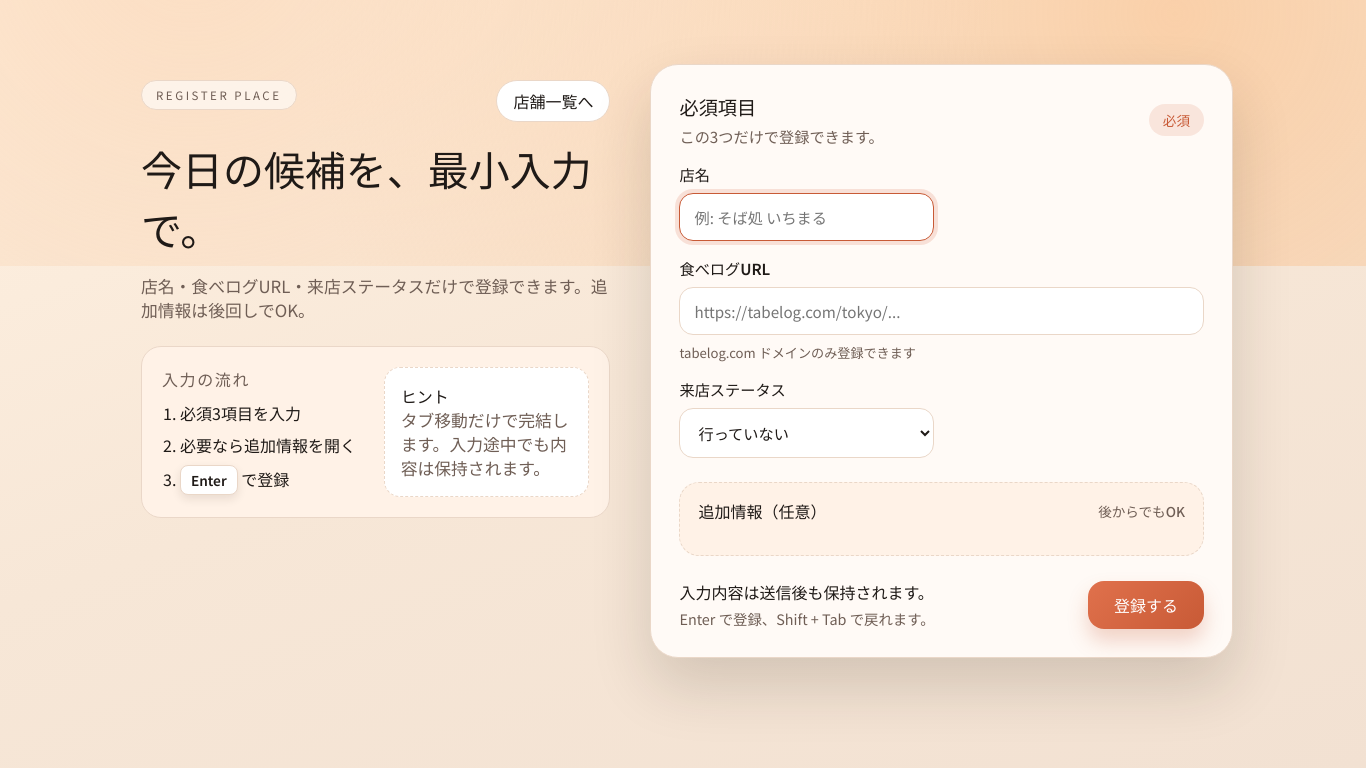
Test: App › tabelog.com 以外のURLを拒否して理由を表示する
The width and height of the screenshot is (1366, 768).
Type "テスト店" into the field labelled "店名".
click(807, 217); type("テスト店")  # box x1=680 y1=193 x2=934 y2=241
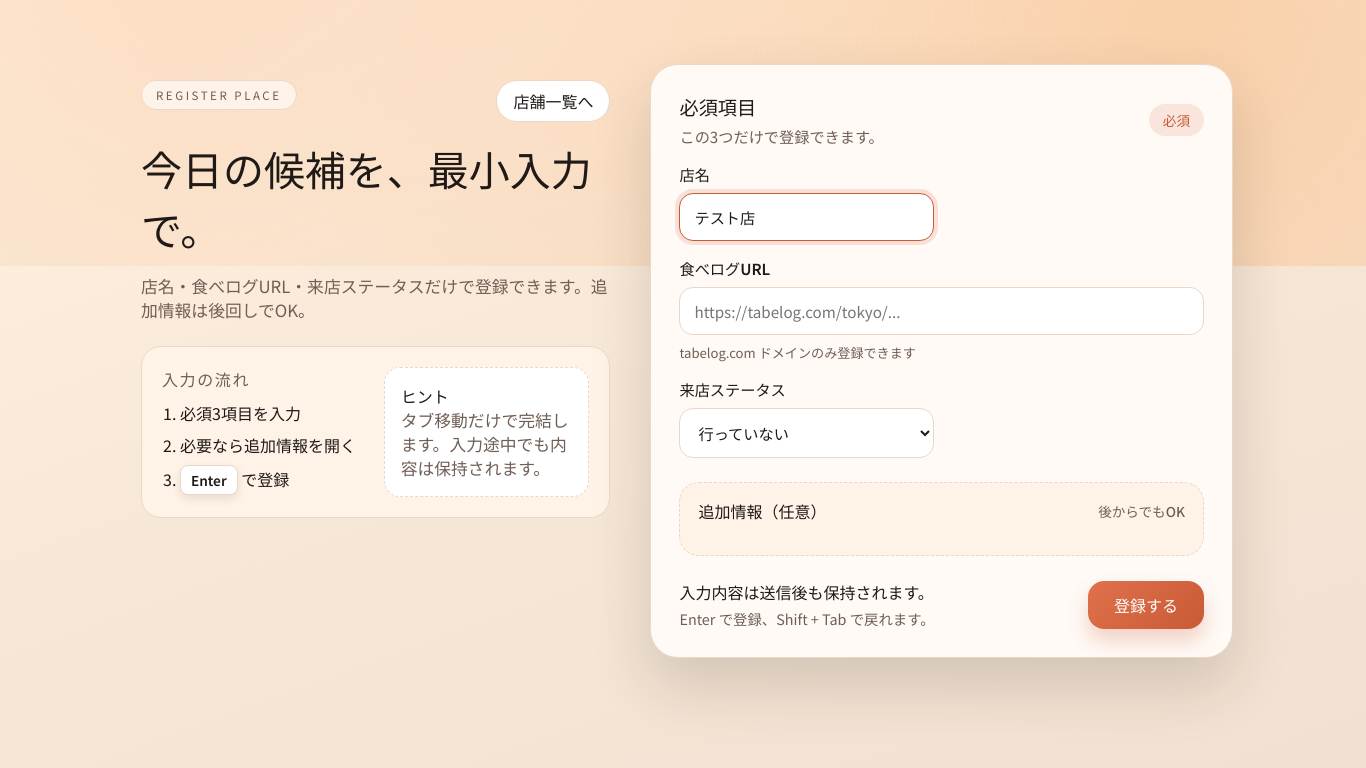
Type "https://example.com" into the field labelled "食べログURL tabelog.com ドメインのみ登録できます".
click(942, 311); type("https://example.com")  # box x1=680 y1=287 x2=1204 y2=335
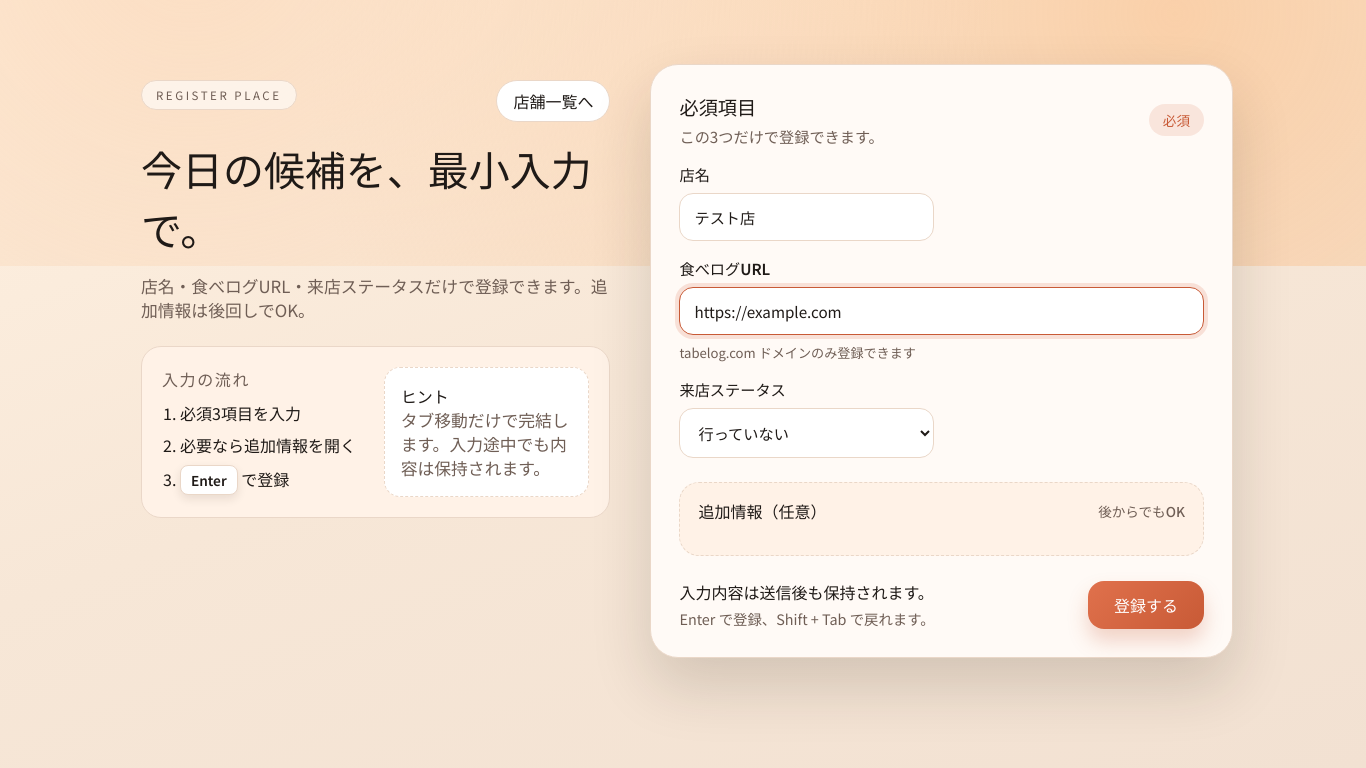
Click the button "登録する".
click(1146, 604)  # box x1=1088 y1=580 x2=1204 y2=628
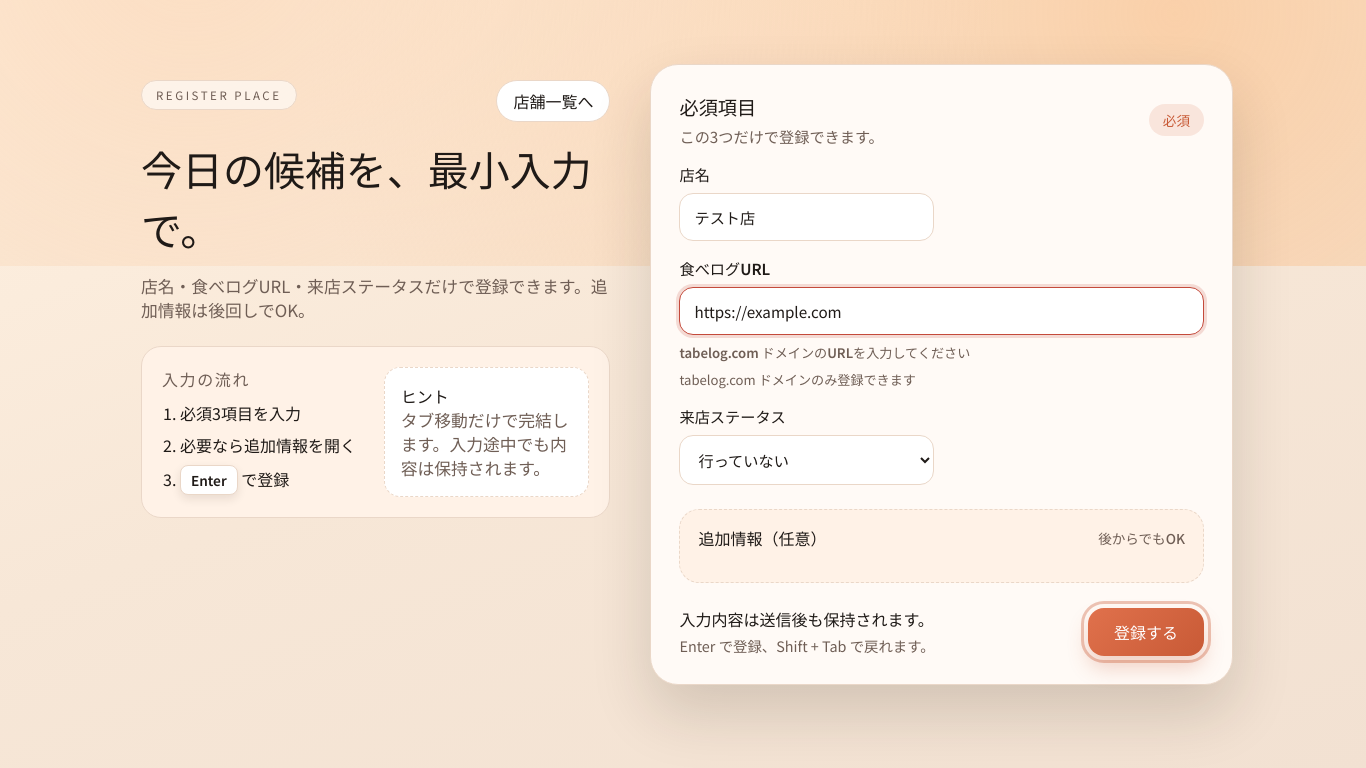
Now the text "tabelog.com ドメインのURLを入力してください" is shown, box x1=680 y1=343 x2=970 y2=362
